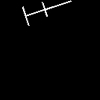double_crochet: (22, 1, 70, 24)
